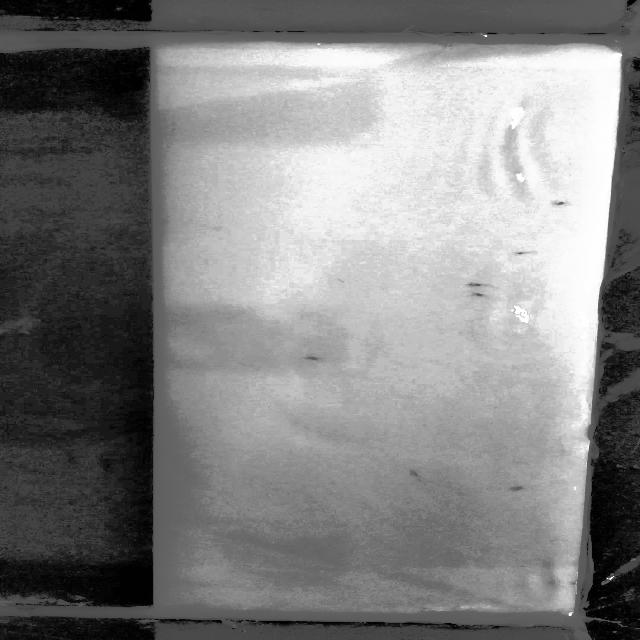shrimp: (459, 280, 497, 290), (463, 289, 498, 299), (546, 198, 579, 208), (514, 247, 537, 258), (407, 469, 428, 480), (503, 485, 528, 493), (305, 354, 321, 361)
